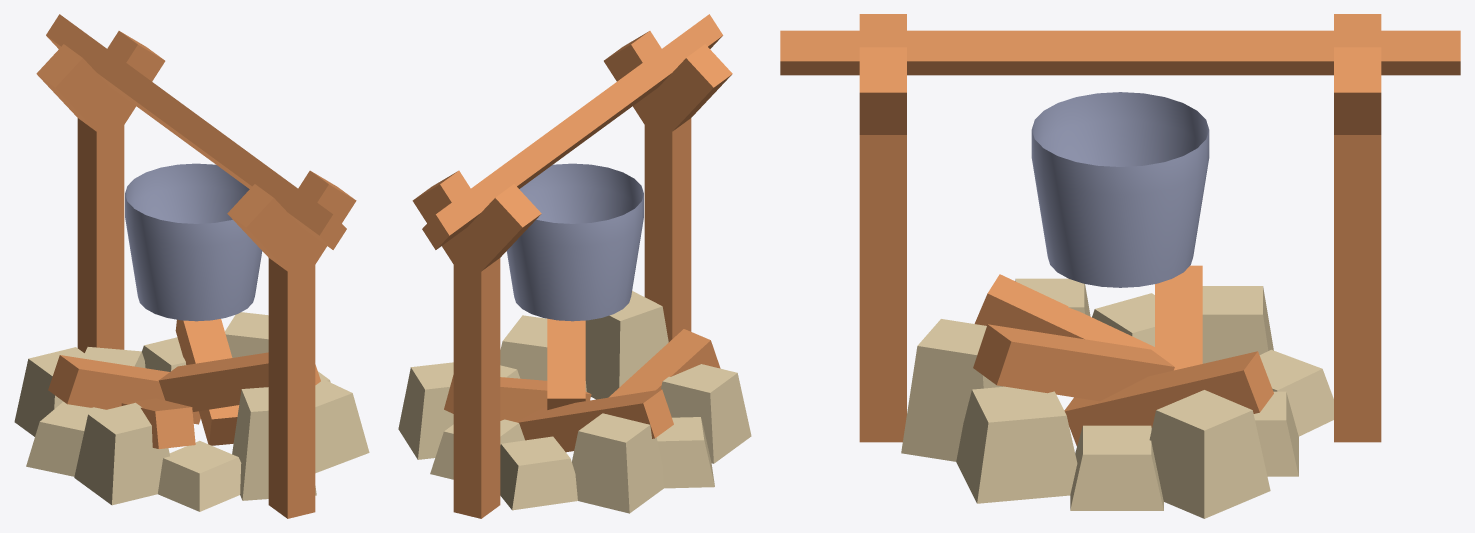
The model's file is campfire.dae.
The picture shows the model from 3 angles, left to right: view 1: azimuth 30°, elevation 25°; view 2: azimuth 150°, elevation 25°; view 3: azimuth 270°, elevation 25°; orthographic projection. The views are drawn at different scales.
Visible parts, largest first — view 1: campfire, rocks, bucket, wood; view 2: campfire, rocks, bucket, wood; view 3: campfire, rocks, bucket, wood.
Part boxes in pixels (bbox=[...]): campfire: bbox=[36, 14, 356, 518]; rocks: bbox=[14, 312, 369, 511]; bucket: bbox=[125, 163, 262, 321]; wood: bbox=[48, 319, 320, 448]; campfire: bbox=[412, 14, 732, 518]; rocks: bbox=[398, 291, 751, 513]; bucket: bbox=[506, 163, 643, 321]; wood: bbox=[444, 318, 720, 452]; campfire: bbox=[780, 14, 1460, 442]; rocks: bbox=[901, 278, 1333, 518]; bucket: bbox=[1031, 92, 1209, 287]; wood: bbox=[973, 265, 1273, 445].
Size of the model in its own units: 1.08 by 1.12 by 1.72.
